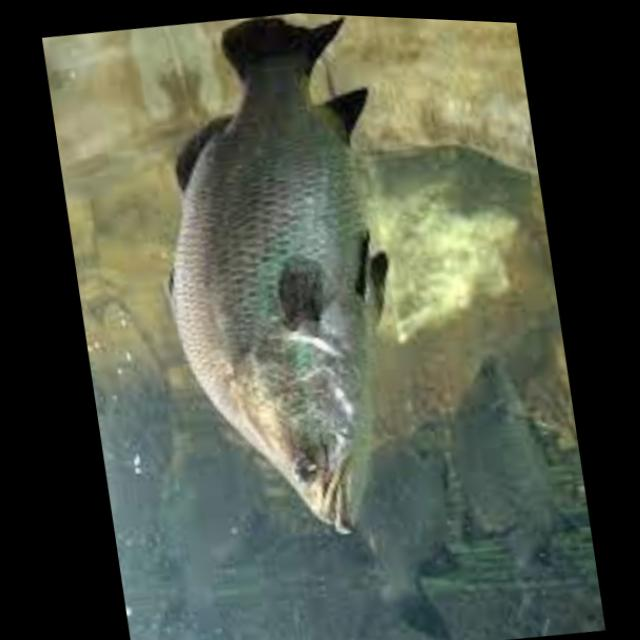Seabass: (126, 6, 430, 560)
